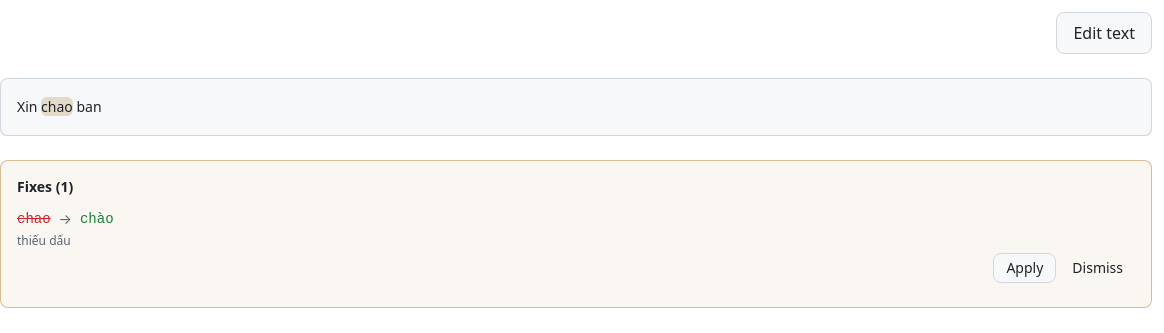
it: empty custom text → Lưu shows alert error + aria-describedby, không save
Click the button "chao" at (57, 107), box [41,95,73,119]
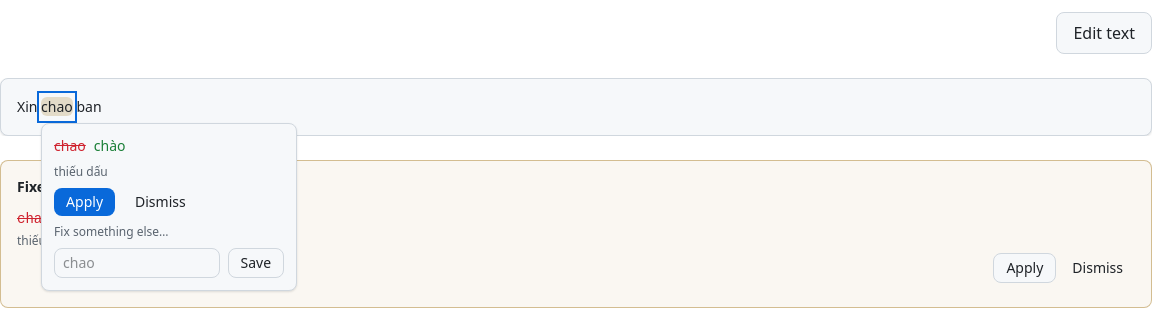
Click the button with test id "btn-save-custom-11" at (256, 263), box [228,248,284,278]
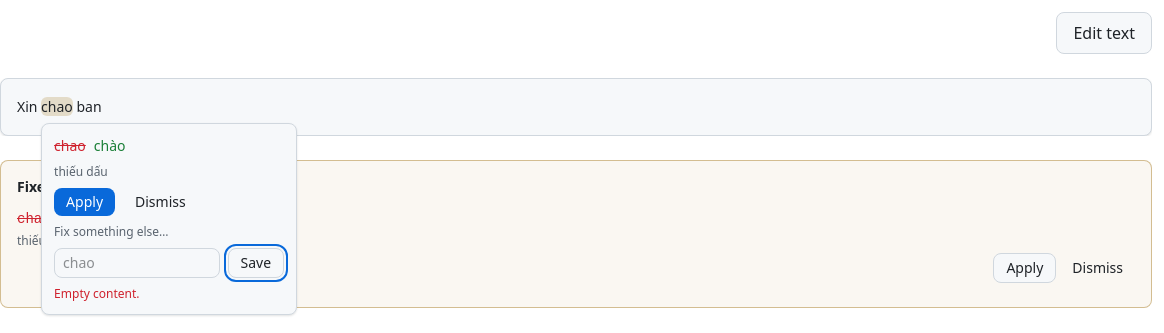
# gõ text → lỗi biến mất
Type "a" into the field with test id "input-custom-11" at (137, 263), box [54,248,220,278]
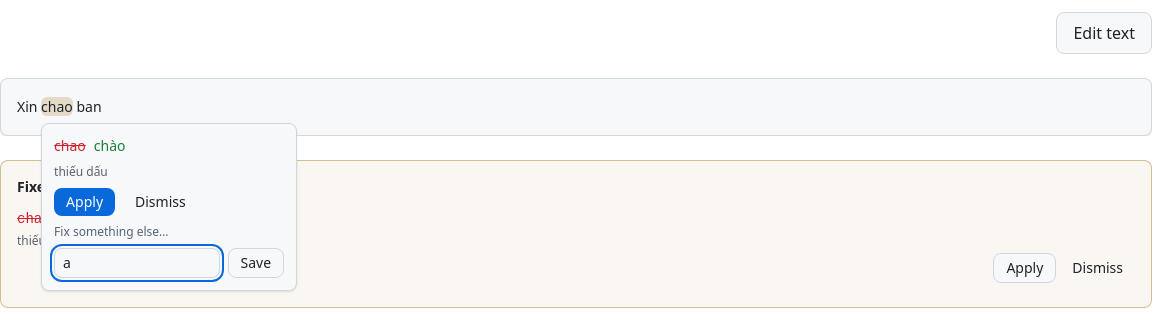
Now the message with test id "custom-error-11" is gone
